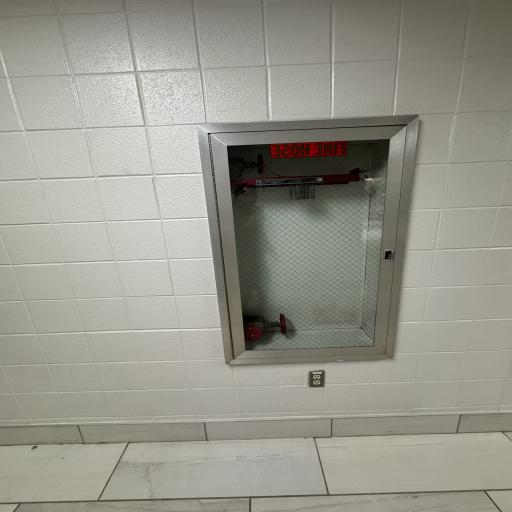fire hose box: (185, 116, 407, 367)
outlet: (303, 367, 331, 390)
